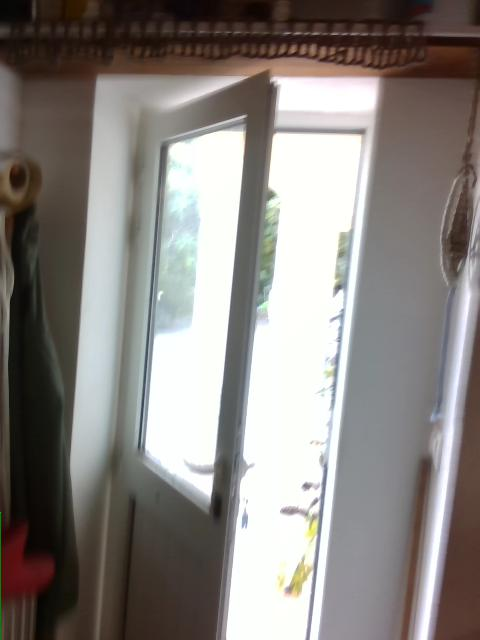semi_door: (94, 64, 377, 639)
